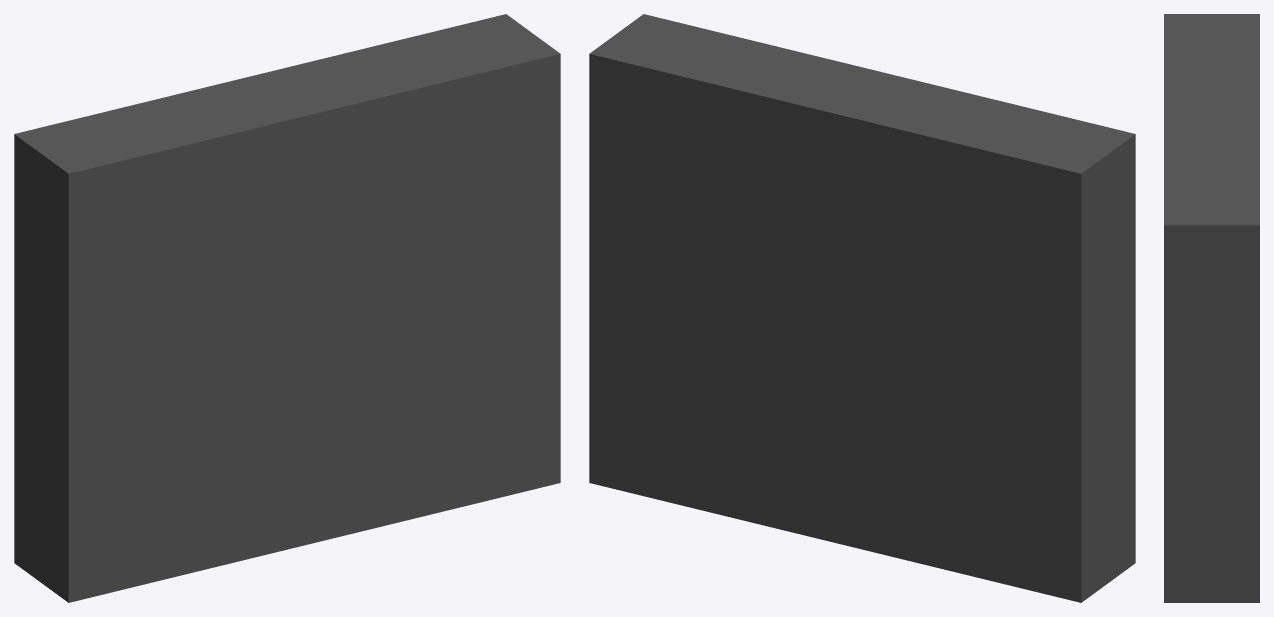
The model's file is off-button.glb.
3 views of the same model, side by side, from view 1: azimuth 30°, elevation 25°; view 2: azimuth 150°, elevation 25°; view 3: azimuth 270°, elevation 25° (orthographic). The views are drawn at different scales.
Visible parts, largest first — view 1: mesh_id40; view 2: mesh_id40; view 3: mesh_id40.
Boxes of the visible parts, x1,y1,x2,y2 form: mesh_id40: (14,14,560,602); mesh_id40: (589,14,1135,602); mesh_id40: (1164,14,1259,602).
Bounding box in the file's own units: 0.0129 × 0.0108 × 0.00248.
Materials: 1 (1 with a texture image).
